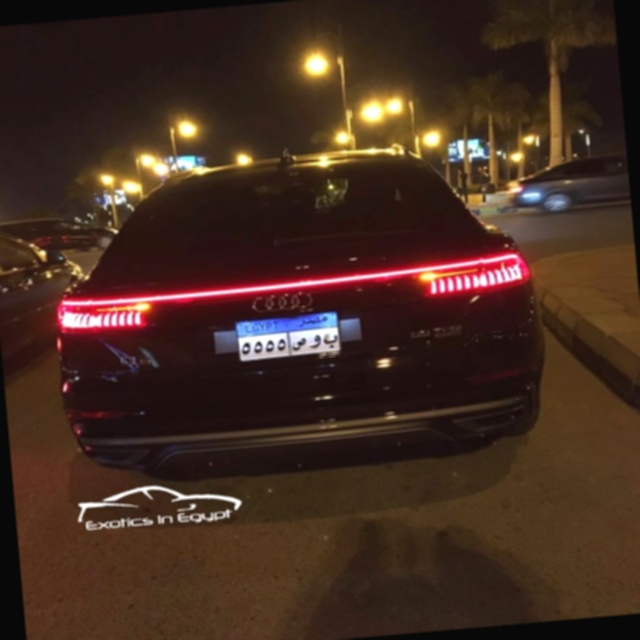License Plate: (232, 308, 347, 365)
